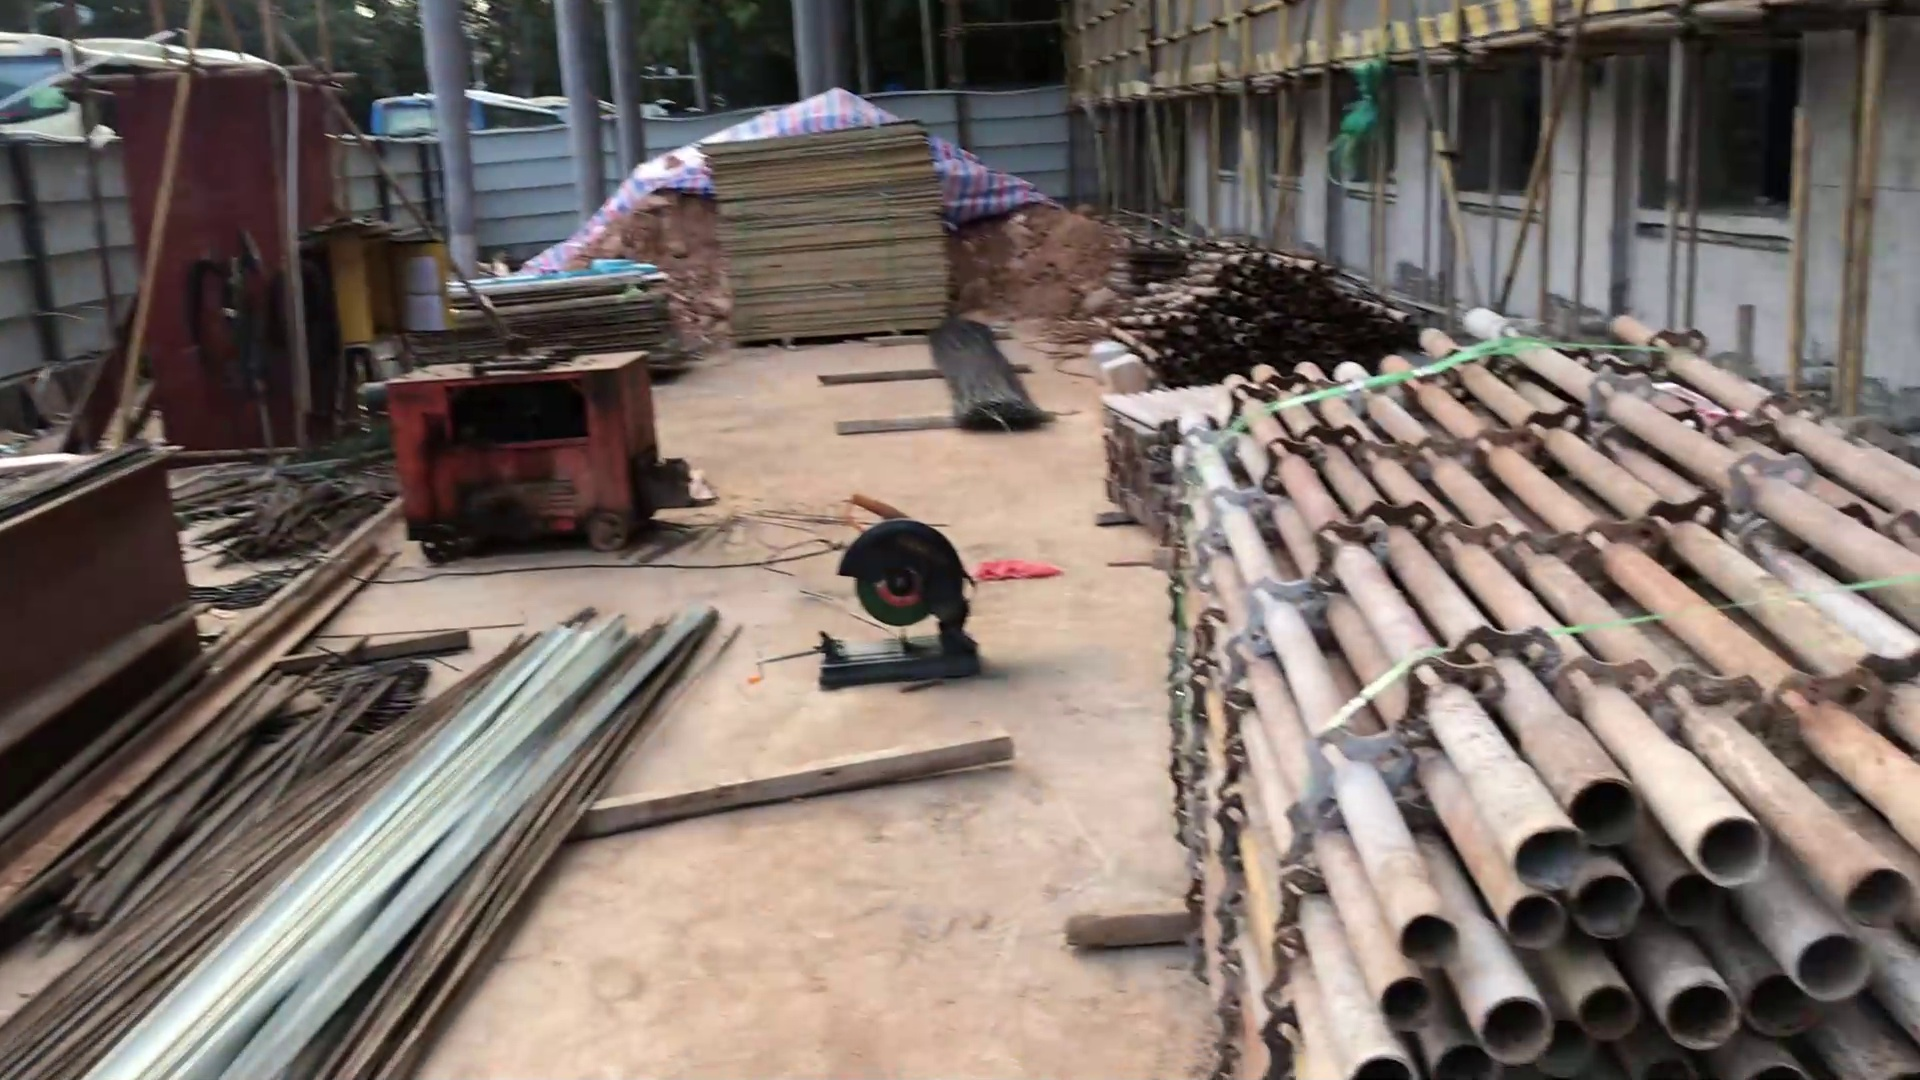board: (694, 107, 969, 364)
cutter: (796, 488, 1000, 702)
ebox: (315, 204, 438, 431)
scaffold: (1167, 316, 1920, 1077), (1116, 236, 1431, 376)
